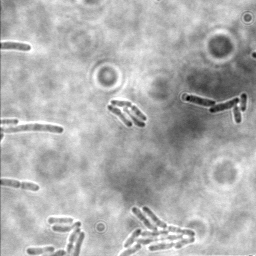Dividing: (1, 177, 41, 193), (208, 96, 241, 115)
Microcolony: (117, 203, 197, 255), (25, 214, 86, 255), (106, 99, 148, 130)
Rod: (1, 123, 65, 135), (184, 95, 216, 109), (1, 42, 32, 52), (231, 104, 243, 125), (239, 91, 248, 113)
